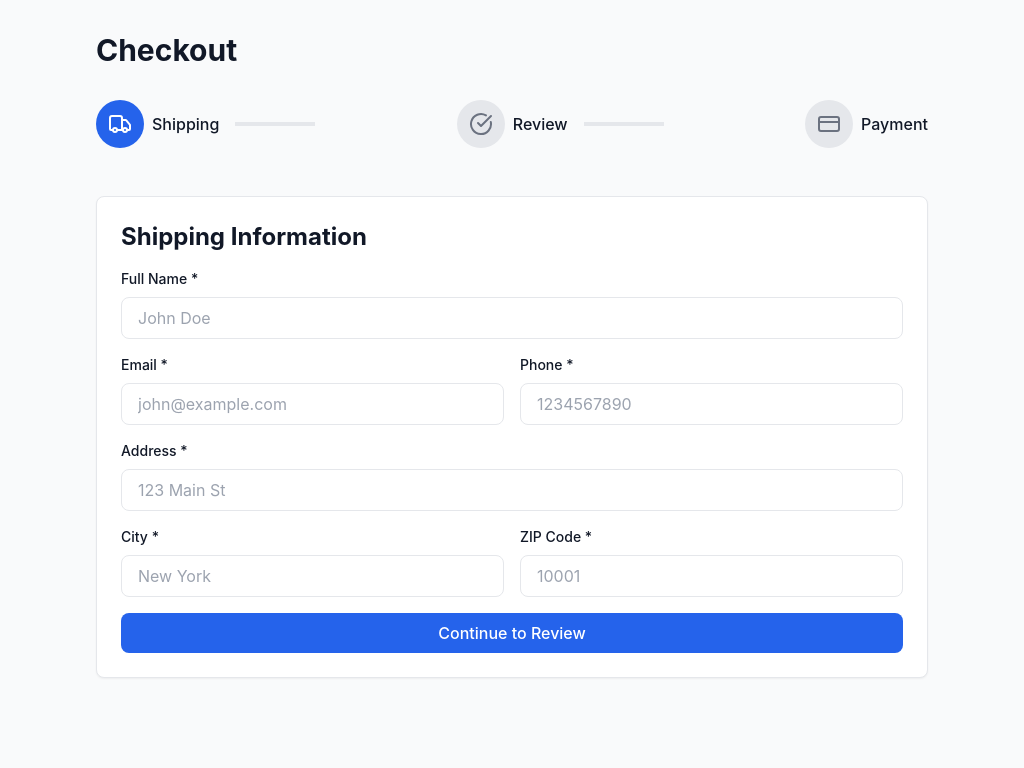
CheckoutPage › shows validation errors for invalid email
Expected: the heading "Checkout" is shown, [96, 32, 237, 68]
In the field with placeholder "john@example.com": (312, 404) [121, 383, 504, 425], type "invalid-email"
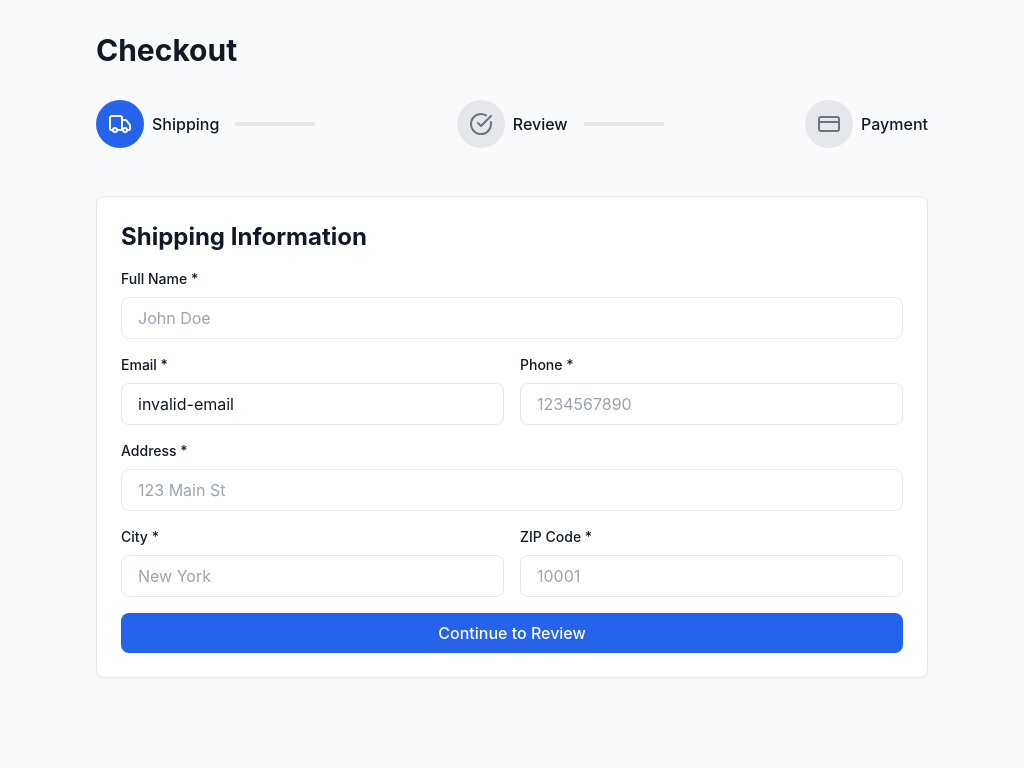
Leave the field with placeholder "john@example.com", box [121, 383, 504, 425]
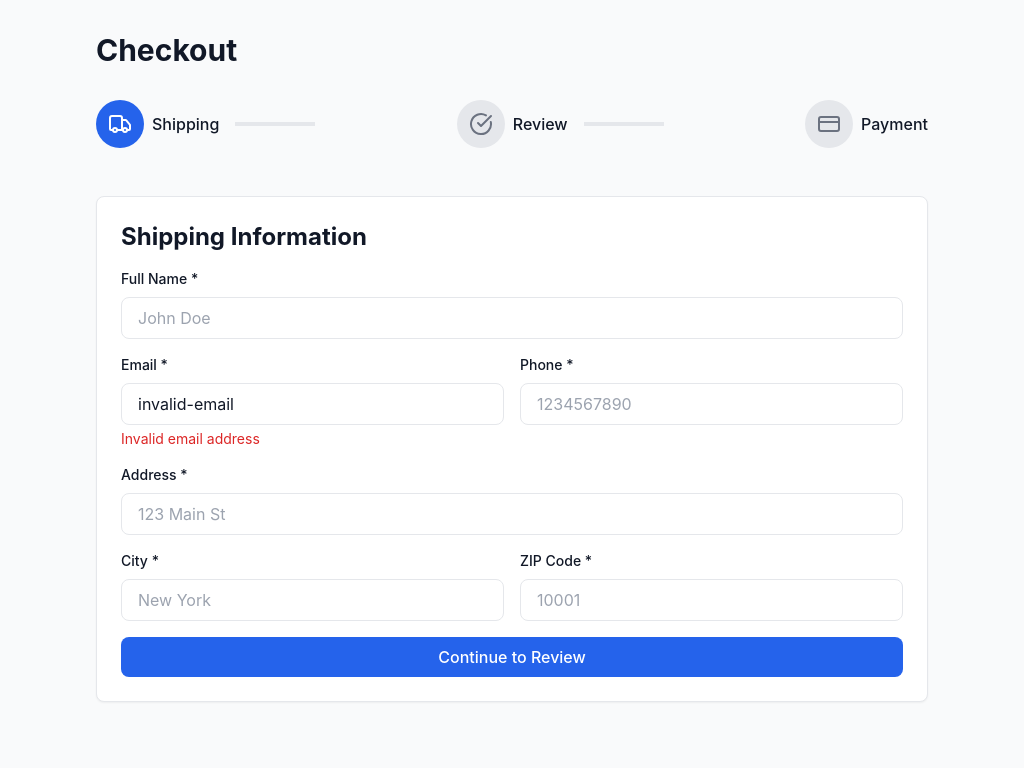
Expected: the text "Invalid email address" is shown, [121, 430, 260, 447]
